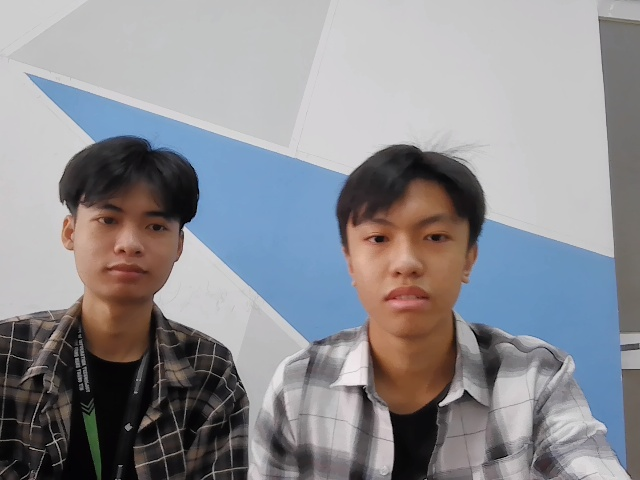human: (337, 144, 487, 337), (59, 136, 200, 307)
